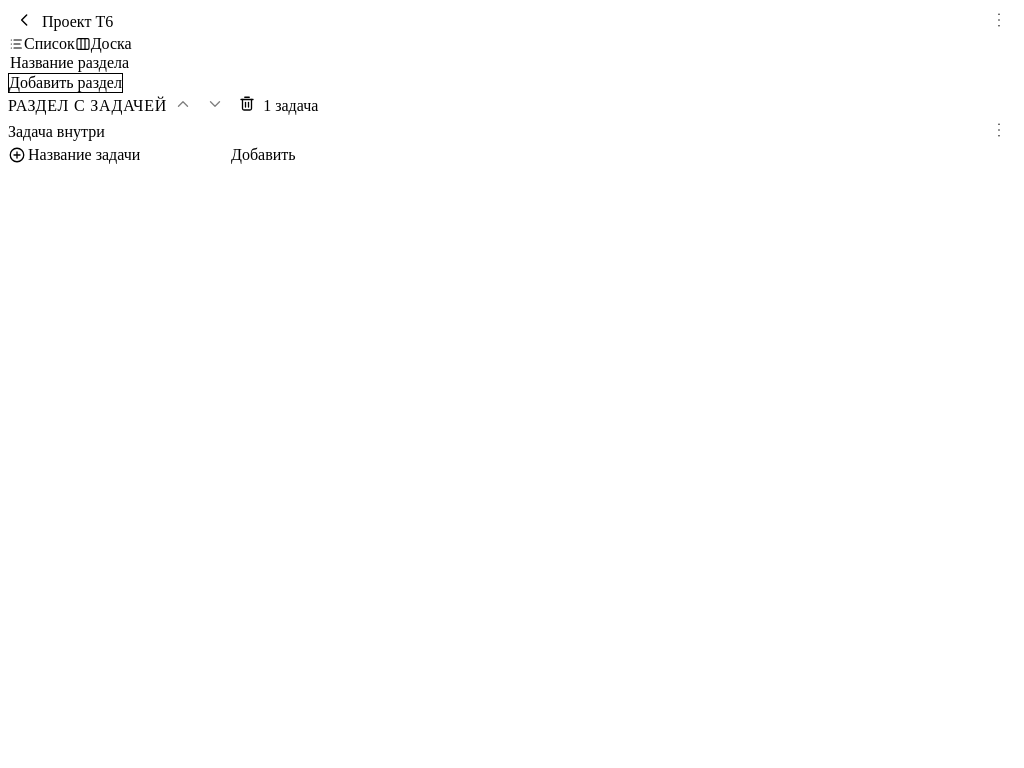
Test: ProjectDetail — CRUD секций (E09.4) › удаление раздела (после подтверждения) переносит задачи в «Без раздела»
Expected: the text "Задача внутри" is shown, [8,122,105,140]
Click the button named "Удалить раздел «Раздел с задачей»". click: (247, 106)
box: [231,93,263,118]
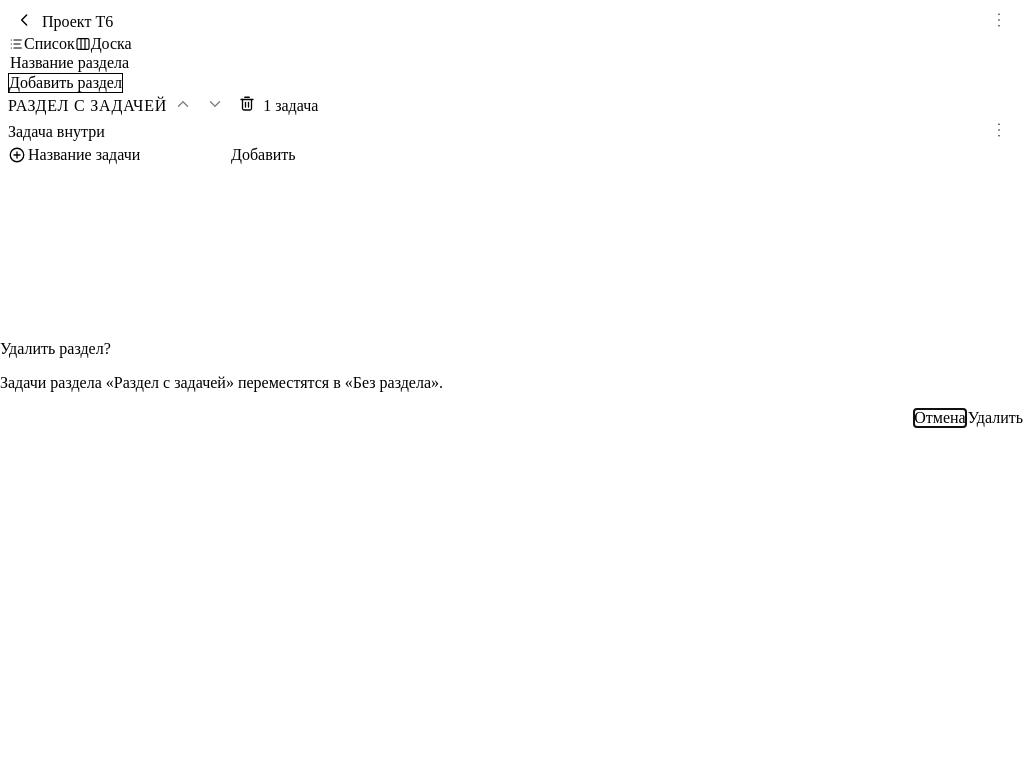
Expected: the dialog "Удалить раздел?" is shown, [0,340,1023,428]
Click the button "Удалить". click: (995, 418)
box: [967,408,1023,428]
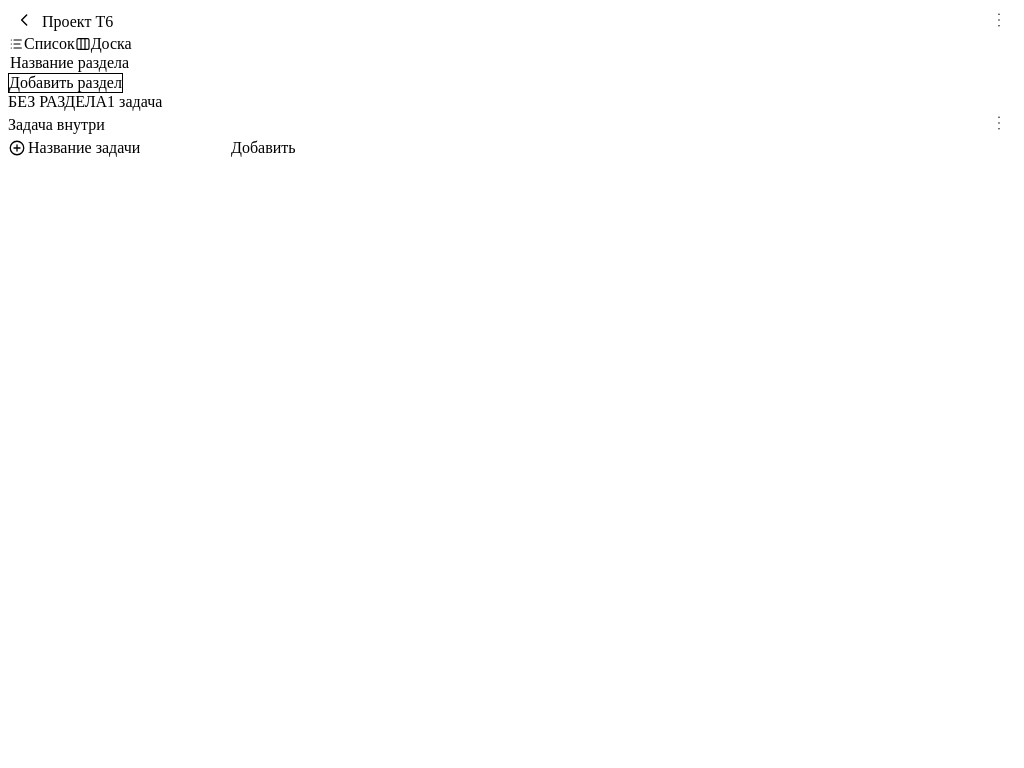
Expected: the text "Задача внутри" is shown, [8,116,105,134]
Expected: the button "Раздел с задачей" is gone
